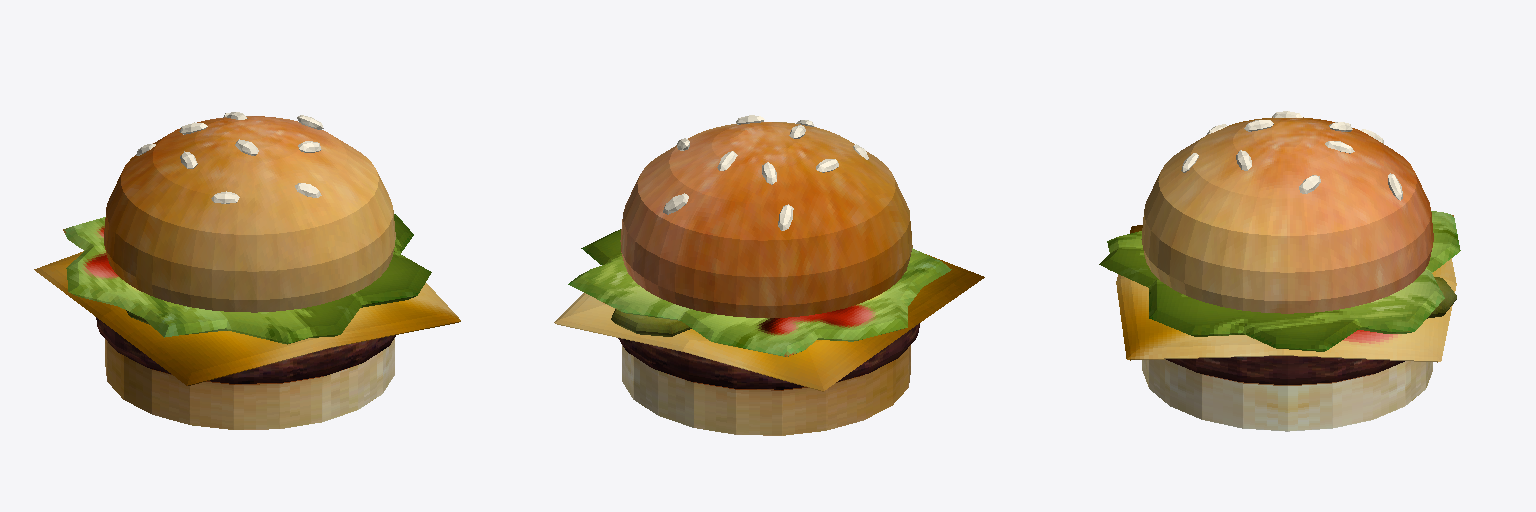
3 views of the same model, side by side, from view 1: azimuth 30°, elevation 25°; view 2: azimuth 150°, elevation 25°; view 3: azimuth 270°, elevation 25° (orthographic).
Visible parts, largest first — view 1: Burger1; view 2: Burger1; view 3: Burger1.
Part boxes in pixels (x1,y1,x2,y2): Burger1: (34, 112, 460, 429); Burger1: (554, 115, 984, 435); Burger1: (1099, 111, 1460, 431).
Size of the model in its own units: 3.53 by 2.6 by 3.37.
1 materials, 1 textured.